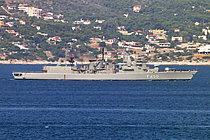MIL_Ship: (11, 55, 199, 82)
